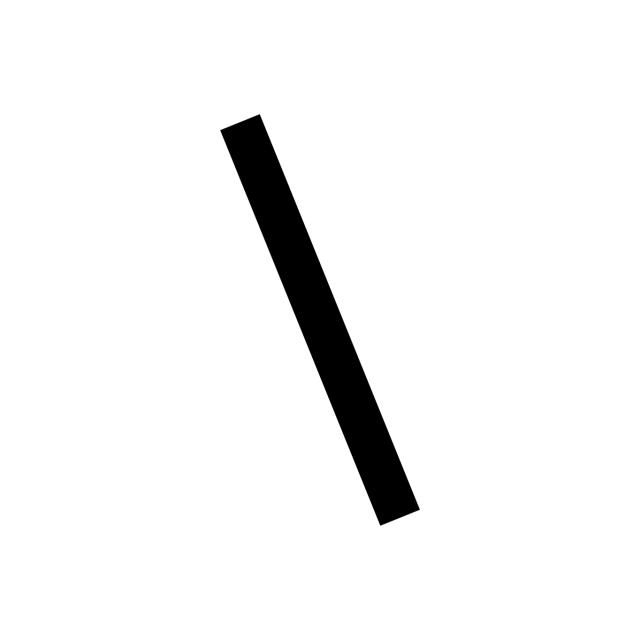line: (220, 114, 420, 526)
